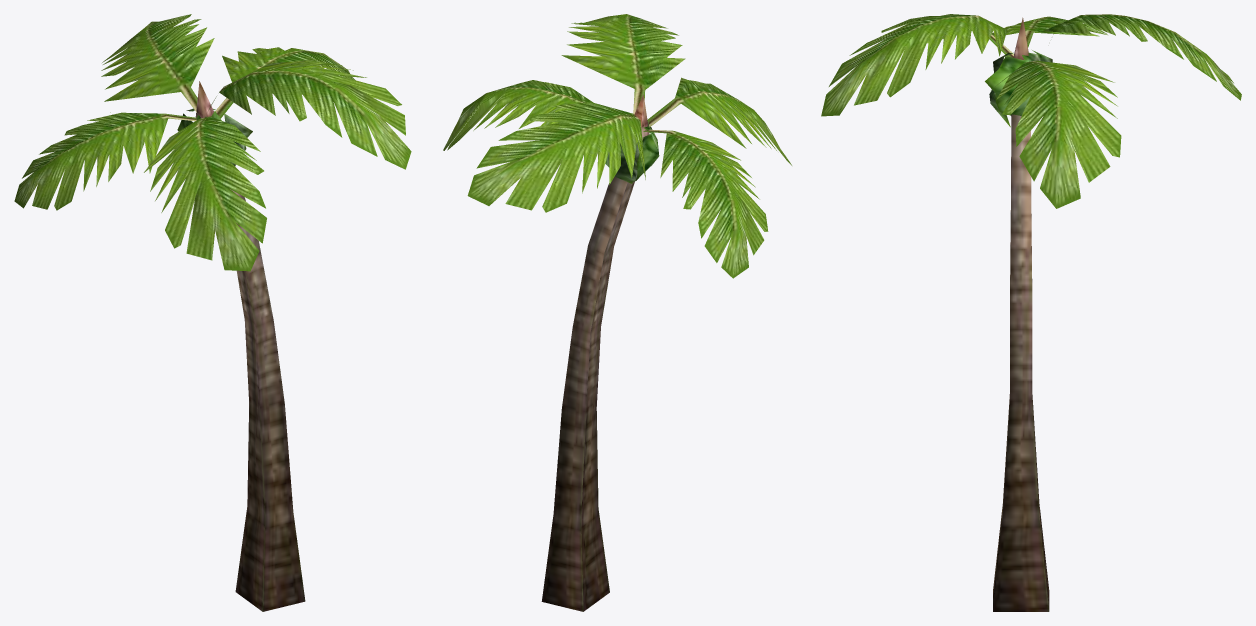
The model's file is cay-dua-01.glb.
3 views of the same model, side by side, from view 1: azimuth 30°, elevation 25°; view 2: azimuth 150°, elevation 25°; view 3: azimuth 270°, elevation 25° (orthographic). The views are drawn at different scales.
Parts seen in each view (by area): view 1: CayDua01; view 2: CayDua01; view 3: CayDua01.
Part boxes in pixels (left/top/right/bottom): CayDua01: left=14, top=14, right=411, bottom=611; CayDua01: left=443, top=14, right=791, bottom=611; CayDua01: left=821, top=14, right=1241, bottom=611.
Bounding box in the file's own units: 7.05 × 11.4 × 7.57.
1 material, 1 textured.
